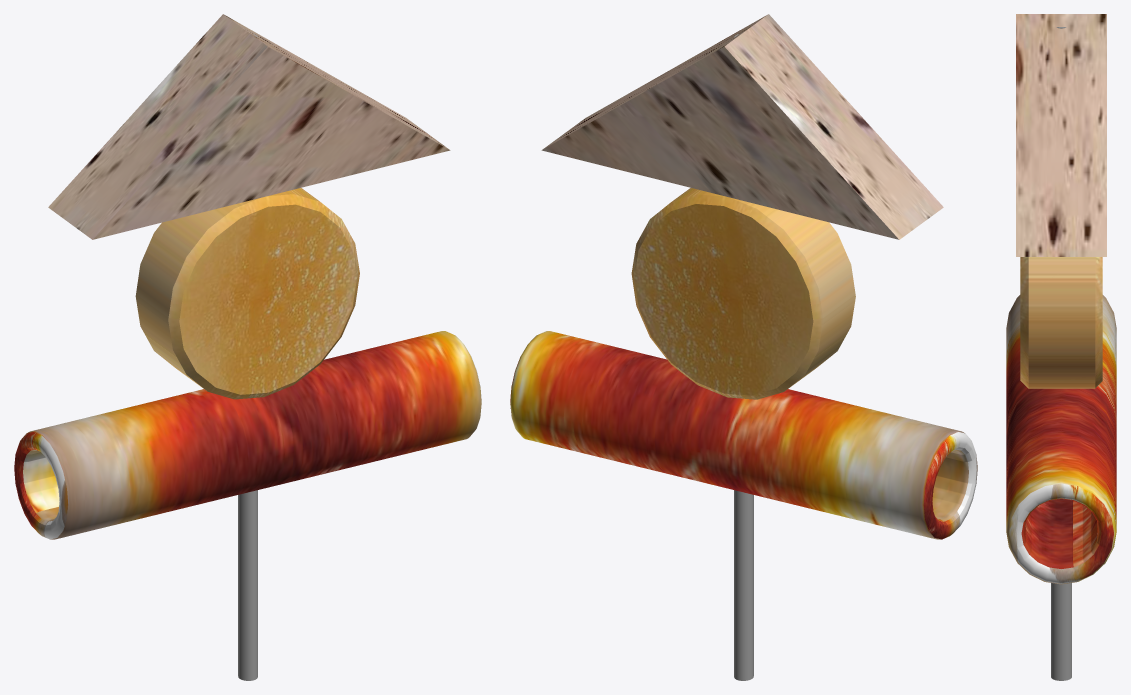
Rendered from oden.fbx.
3 renders of one model, left to right at view 1: azimuth 30°, elevation 25°; view 2: azimuth 150°, elevation 25°; view 3: azimuth 270°, elevation 25°, orthographic. The views are drawn at different scales.
Visible parts, largest first — view 1: polySurface1, pCylinder2, pCylinder1, pCylinder5; view 2: polySurface1, pCylinder2, pCylinder1, pCylinder5; view 3: polySurface1, pCylinder2, pCylinder1, pCylinder5.
Part boxes in pixels (x1,y1,x2,y2): polySurface1: (14, 331, 481, 539); pCylinder2: (48, 14, 450, 239); pCylinder1: (135, 188, 359, 399); pCylinder5: (238, 34, 257, 680); polySurface1: (510, 331, 977, 539); pCylinder2: (541, 14, 943, 239); pCylinder1: (631, 188, 855, 399); pCylinder5: (734, 34, 753, 680); polySurface1: (1006, 295, 1116, 584); pCylinder2: (1016, 14, 1106, 256); pCylinder1: (1020, 257, 1102, 388); pCylinder5: (1051, 27, 1071, 680).
Size of the model in its own units: 4.38 by 6.45 by 0.9769.
Materials: 2 (1 with a texture image).
